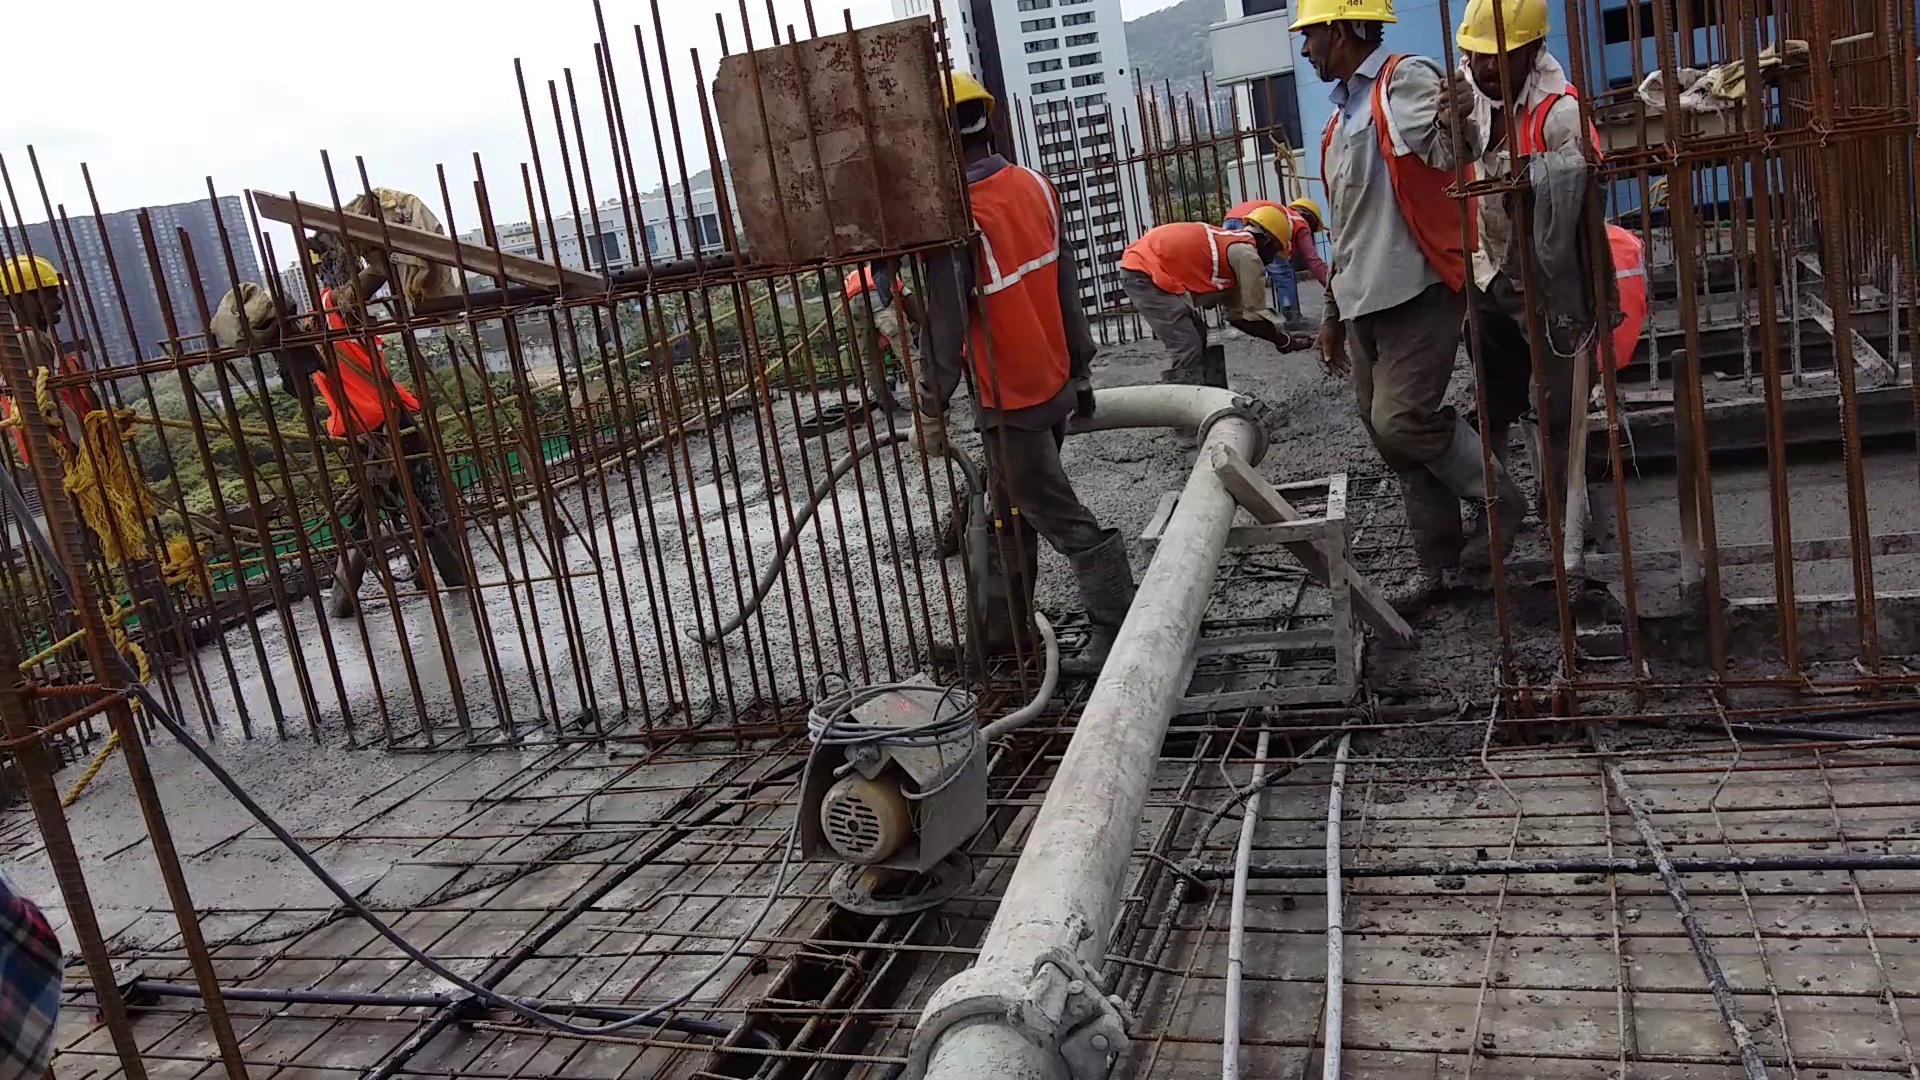NoJacket: (1305, 7, 1447, 314)
SAFE: (945, 69, 1063, 409), (1112, 200, 1286, 316)
